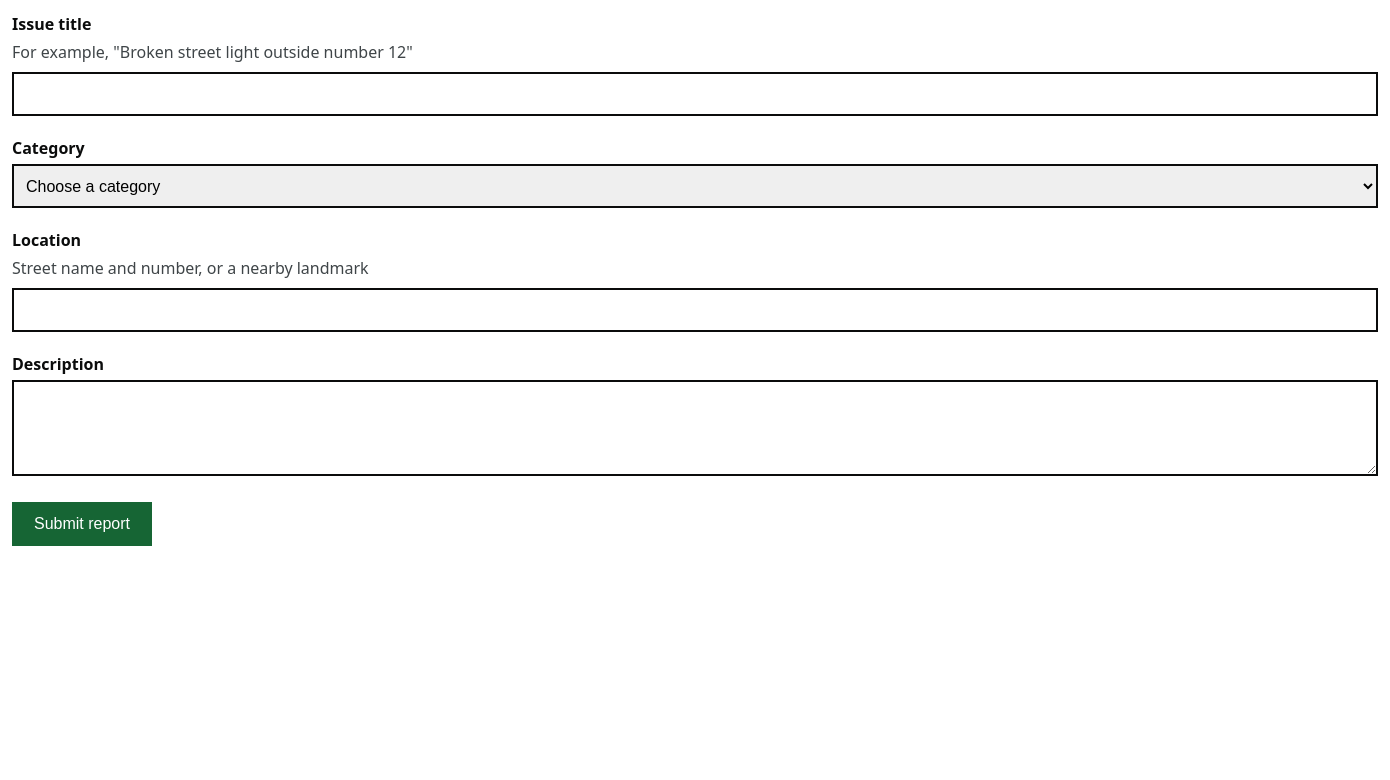
Test: ReportForm › shows a network error message when fetch fails
The image size is (1390, 780).
Click the button "Submit report".
click(82, 524)  # box left=12, top=502, right=152, bottom=546
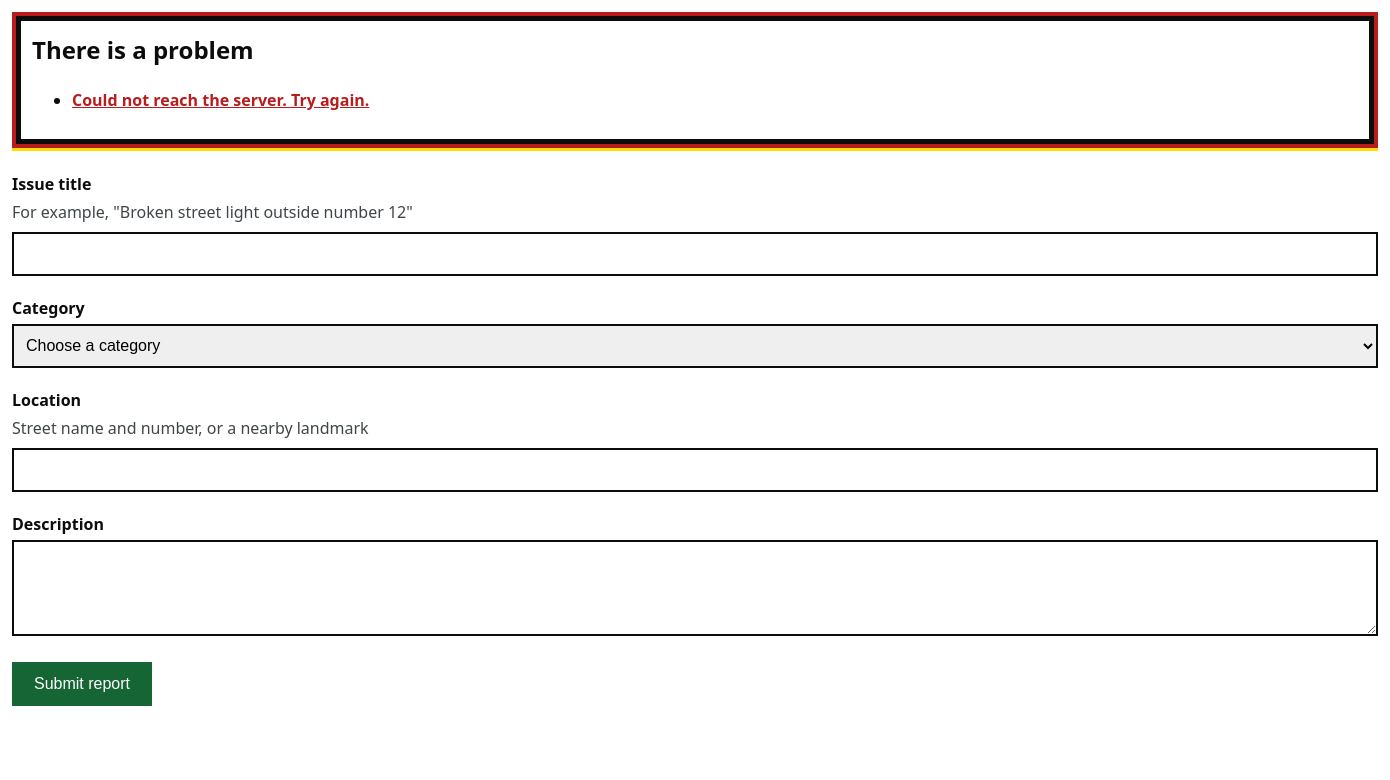
Expected: the message shows "Could not reach the server", left=72, top=89, right=369, bottom=111
